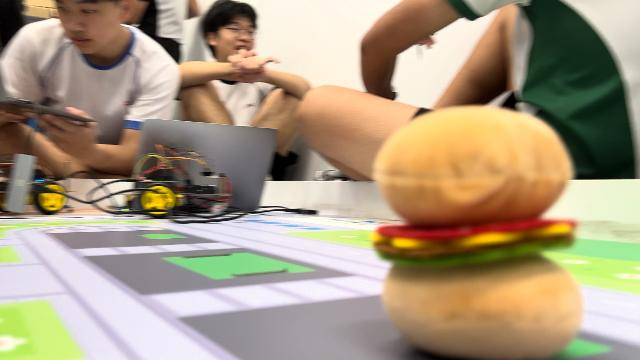burger: (366, 99, 586, 358)
